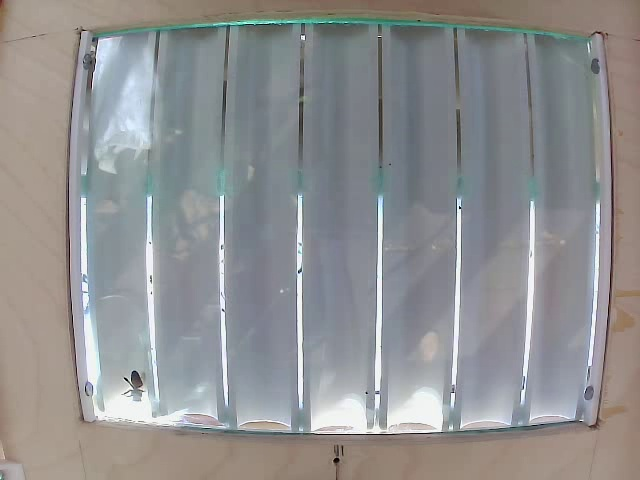bee: (115, 367, 158, 410)
